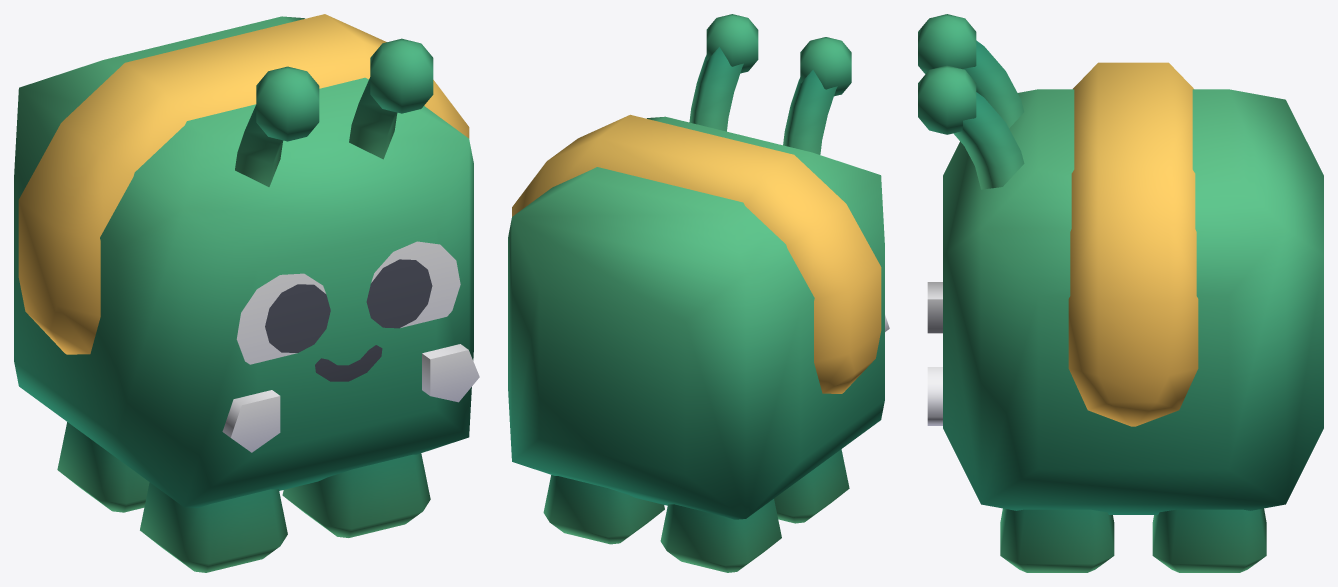
Rendered from caterpillar.glb.
3 views of the same model, side by side, from view 1: azimuth 30°, elevation 25°; view 2: azimuth 150°, elevation 25°; view 3: azimuth 270°, elevation 25° (orthographic). The views are drawn at different scales.
Parts seen in each view (by area): view 1: body, leg-front-right, leg-front-left, leg-back-right; view 2: body, leg-back-right, leg-back-left, leg-front-right; view 3: body, leg-back-left, leg-front-left.
Part boxes in pixels (x1=…): body: x1=14, y1=14, x2=479, y2=507; leg-front-right: x1=140, y1=482, x2=287, y2=572; leg-front-left: x1=282, y1=453, x2=430, y2=537; leg-back-right: x1=57, y1=422, x2=149, y2=512; body: x1=508, y1=14, x2=889, y2=519; leg-back-right: x1=660, y1=499, x2=781, y2=572; leg-back-left: x1=543, y1=475, x2=664, y2=544; leg-front-right: x1=774, y1=449, x2=849, y2=523; body: x1=918, y1=14, x2=1323, y2=514; leg-back-left: x1=1152, y1=508, x2=1266, y2=572; leg-front-left: x1=1000, y1=508, x2=1114, y2=572.
Bounding box in the file's own units: 1.44 × 1.75 × 1.33.
1 material, 1 textured.
